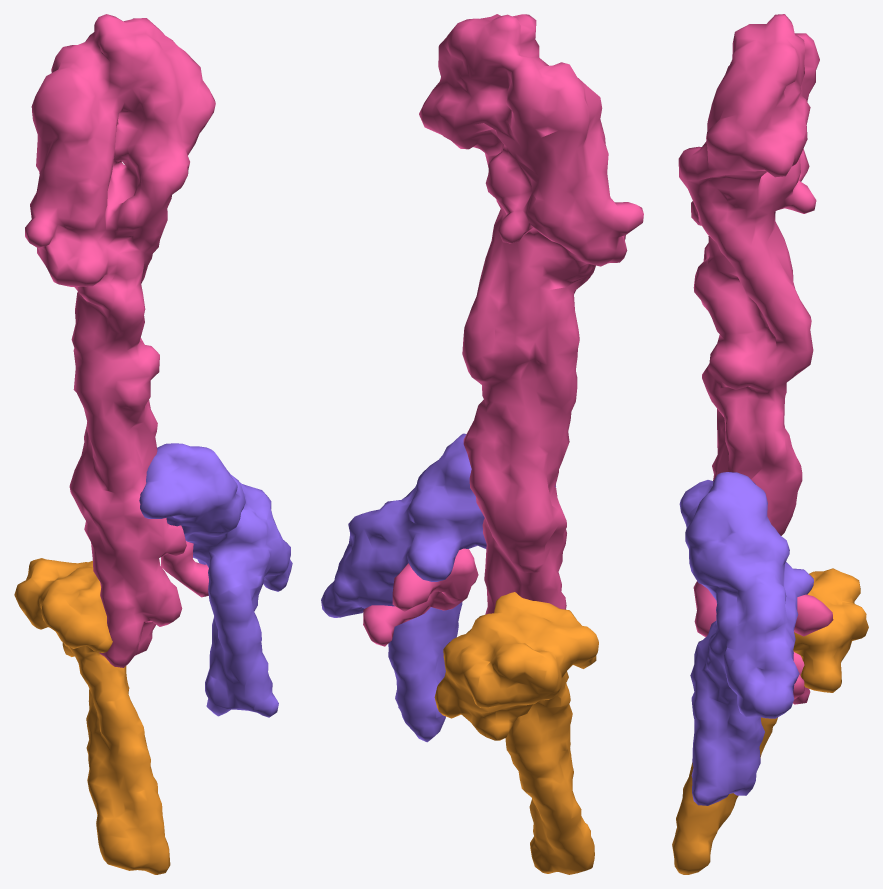
File: kinetochore_junction.glb
3 renders of one model, left to right at view 1: azimuth 30°, elevation 25°; view 2: azimuth 150°, elevation 25°; view 3: azimuth 270°, elevation 25°, orthographic. The views are drawn at different scales.
Parts seen in each view (by area): view 1: kt_junction_mis12, kt_junction_knl1, kt_junction_foot; view 2: kt_junction_mis12, kt_junction_foot, kt_junction_knl1; view 3: kt_junction_mis12, kt_junction_knl1, kt_junction_foot.
Boxes of the visible parts, bbox=[...] form: kt_junction_mis12: bbox=[25, 14, 215, 667]; kt_junction_knl1: bbox=[139, 443, 292, 717]; kt_junction_foot: bbox=[14, 558, 170, 874]; kt_junction_mis12: bbox=[363, 14, 643, 646]; kt_junction_foot: bbox=[434, 592, 598, 874]; kt_junction_knl1: bbox=[321, 433, 555, 742]; kt_junction_mis12: bbox=[678, 14, 833, 704]; kt_junction_knl1: bbox=[679, 472, 813, 805]; kt_junction_foot: bbox=[672, 568, 868, 874].
Bounding box in the file's own units: 11.03 × 31.37 × 6.55.
